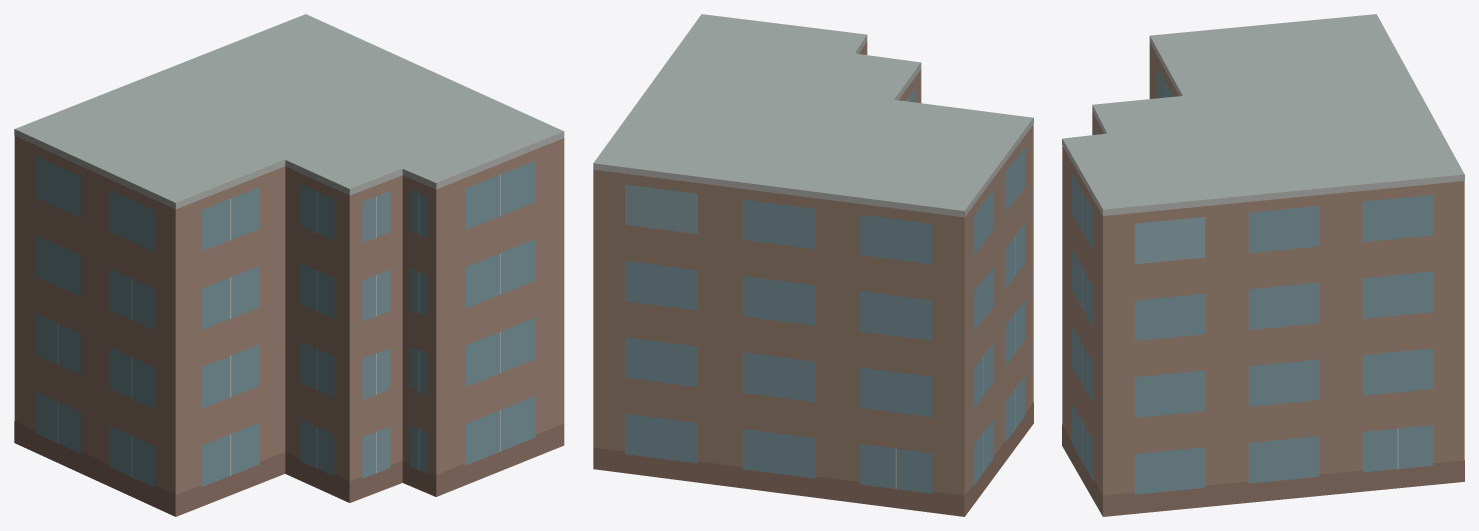
File: survey-upis-32953611.glb
The picture shows the model from 3 angles, left to right: view 1: azimuth 30°, elevation 25°; view 2: azimuth 150°, elevation 25°; view 3: azimuth 270°, elevation 25°; orthographic projection. The views are drawn at different scales.
Visible parts, largest first — view 1: survey-upis-32953611.tmp; view 2: survey-upis-32953611.tmp; view 3: survey-upis-32953611.tmp.
Boxes of the visible parts, x1,y1,x2,y2 form: survey-upis-32953611.tmp: (14,14,564,516); survey-upis-32953611.tmp: (593,14,1033,516); survey-upis-32953611.tmp: (1062,14,1464,516).
Bounding box in the file's own units: 16.07 × 11.75 × 13.97.
